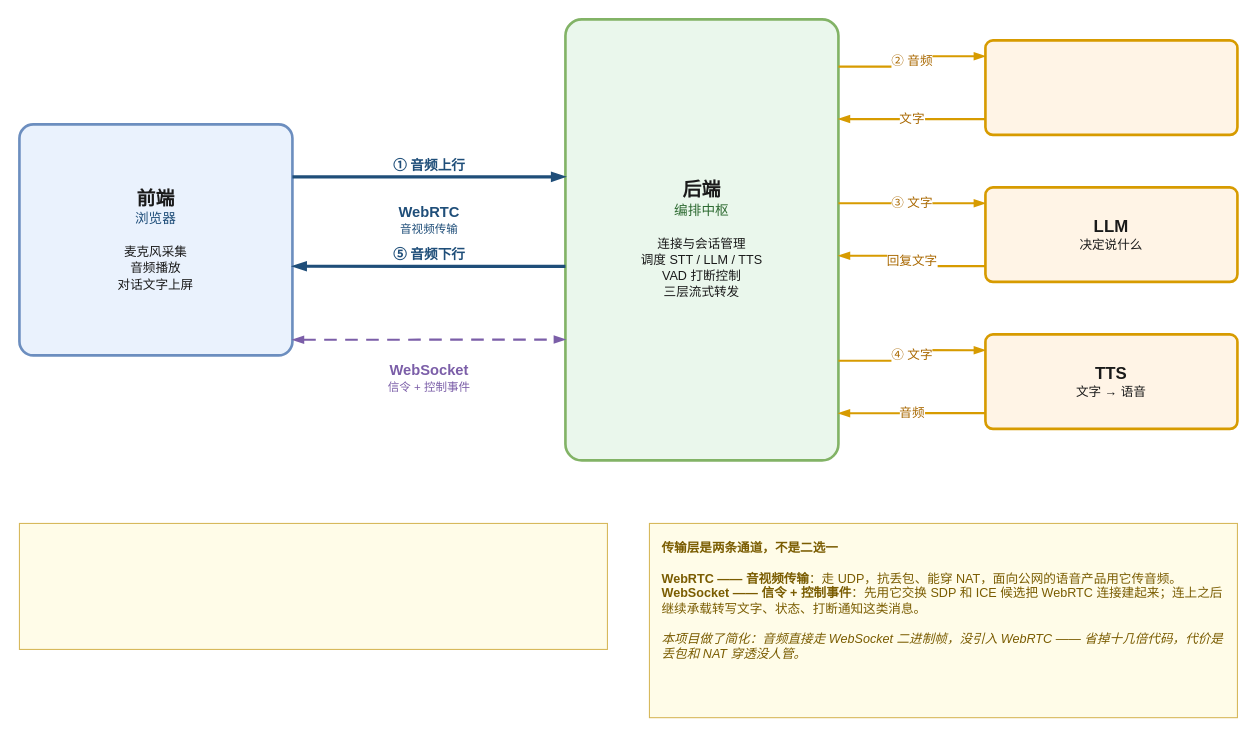
The diagram is 1257 pixels wide and 736 high, and some of its shapes have lost their labels. Here are the shapes that lost their labels. From the top down, the centre of each, then its label:
At point 1111,87: "STT 语音 → 文字".
At point 312,585: "一轮对话 = ① → ② → ③ → ④ → ⑤ 但②③④ 不是排队执行 —— 全程流式，三步彼此重叠：LLM 还在写第二句时，第一句的语音已经在用户耳朵里了。".
